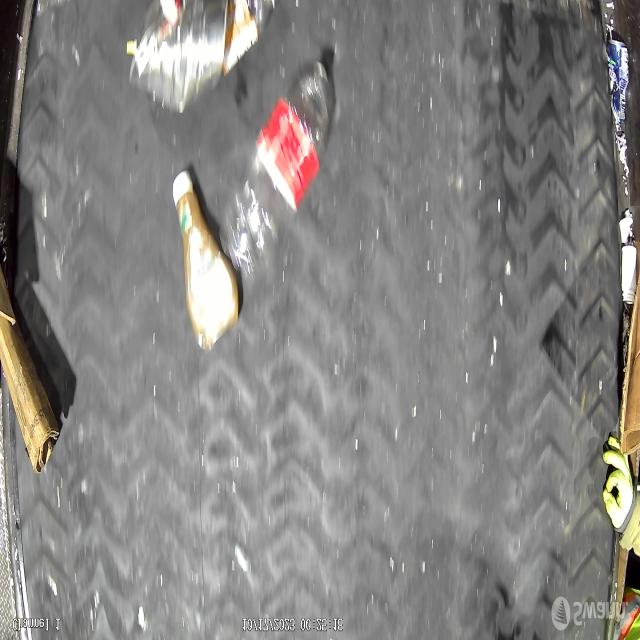can: (606, 38, 629, 126)
plastic_bottle: (225, 63, 333, 277)
